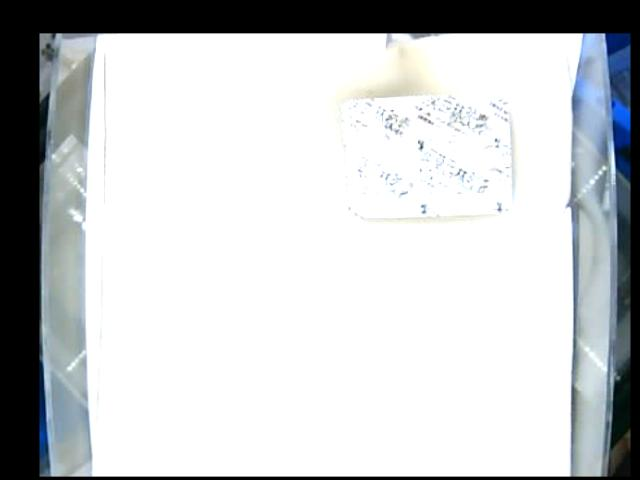Medicine: (339, 92, 515, 216)
